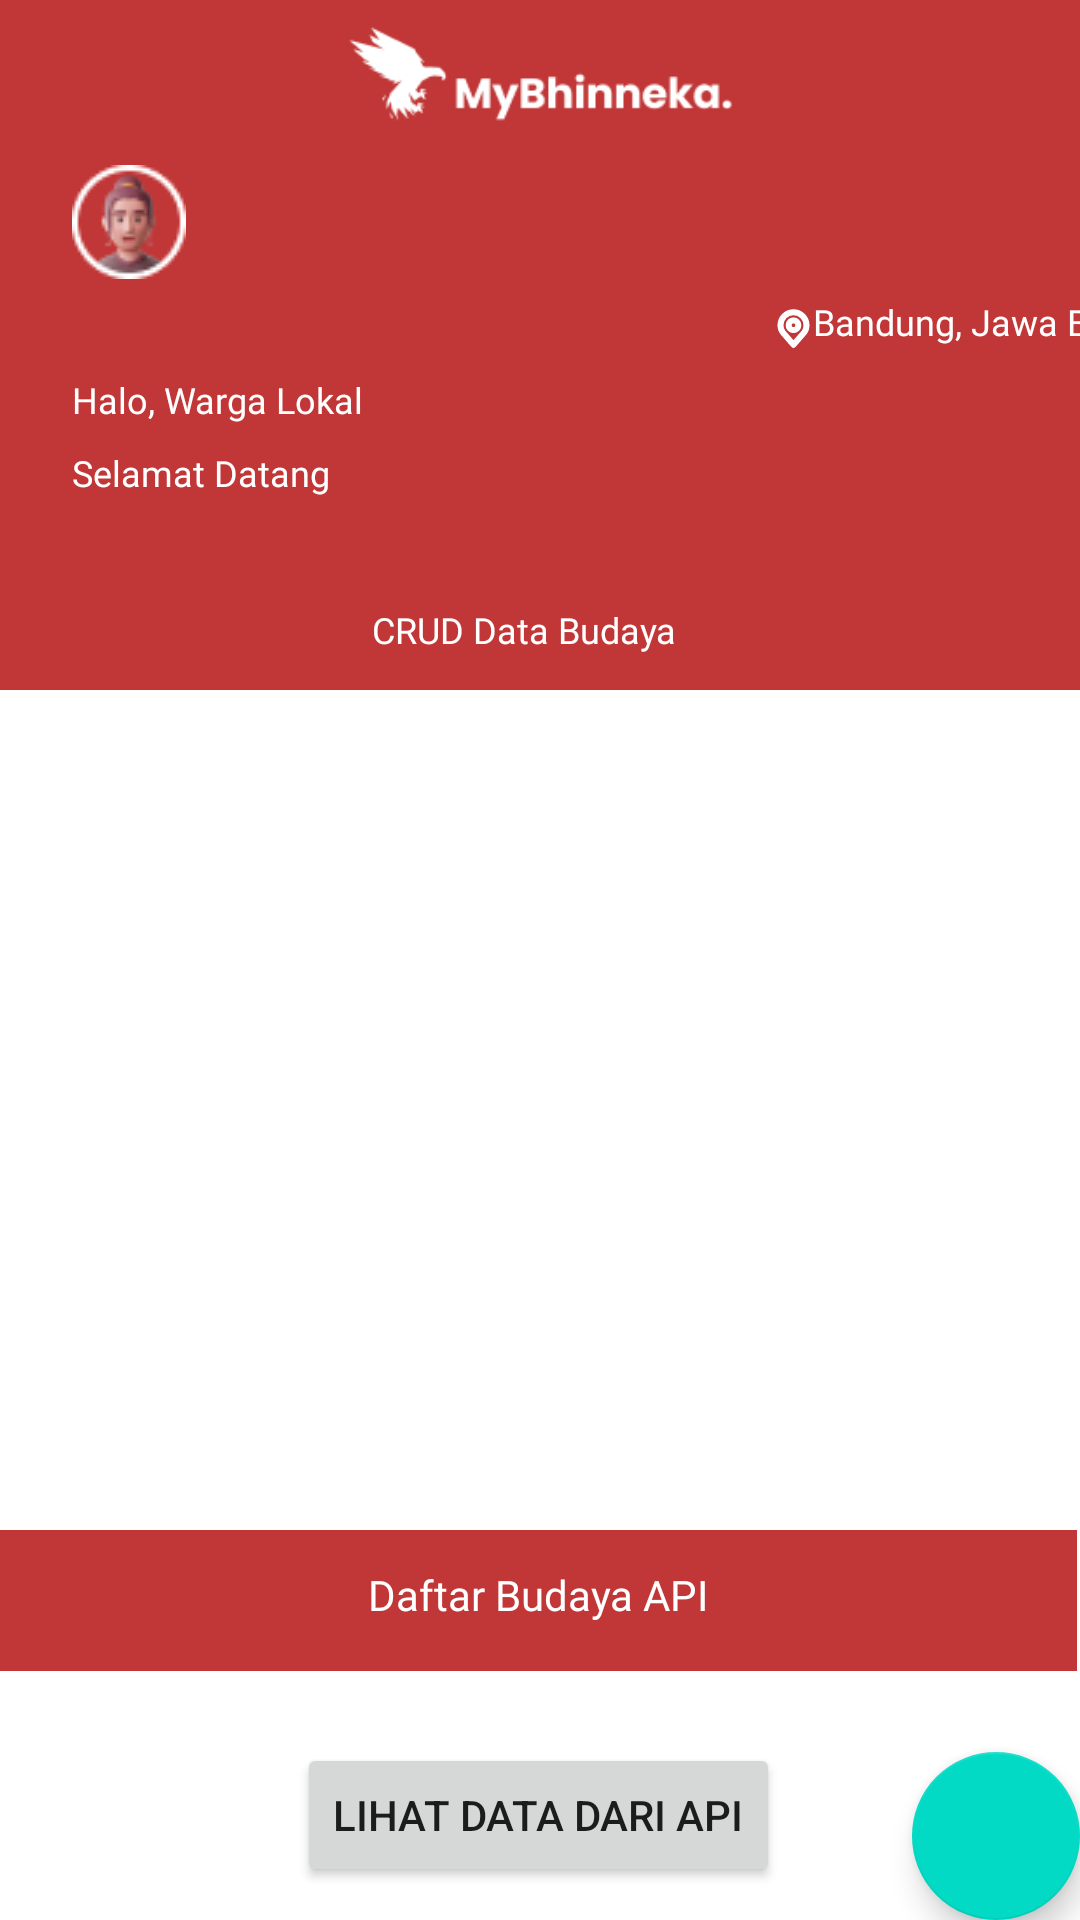

Screen size 1080w x 1920h. Icon name, then its center in pixels as point (x, y):
foto: point (129, 222)
lokasi: point (793, 328)
